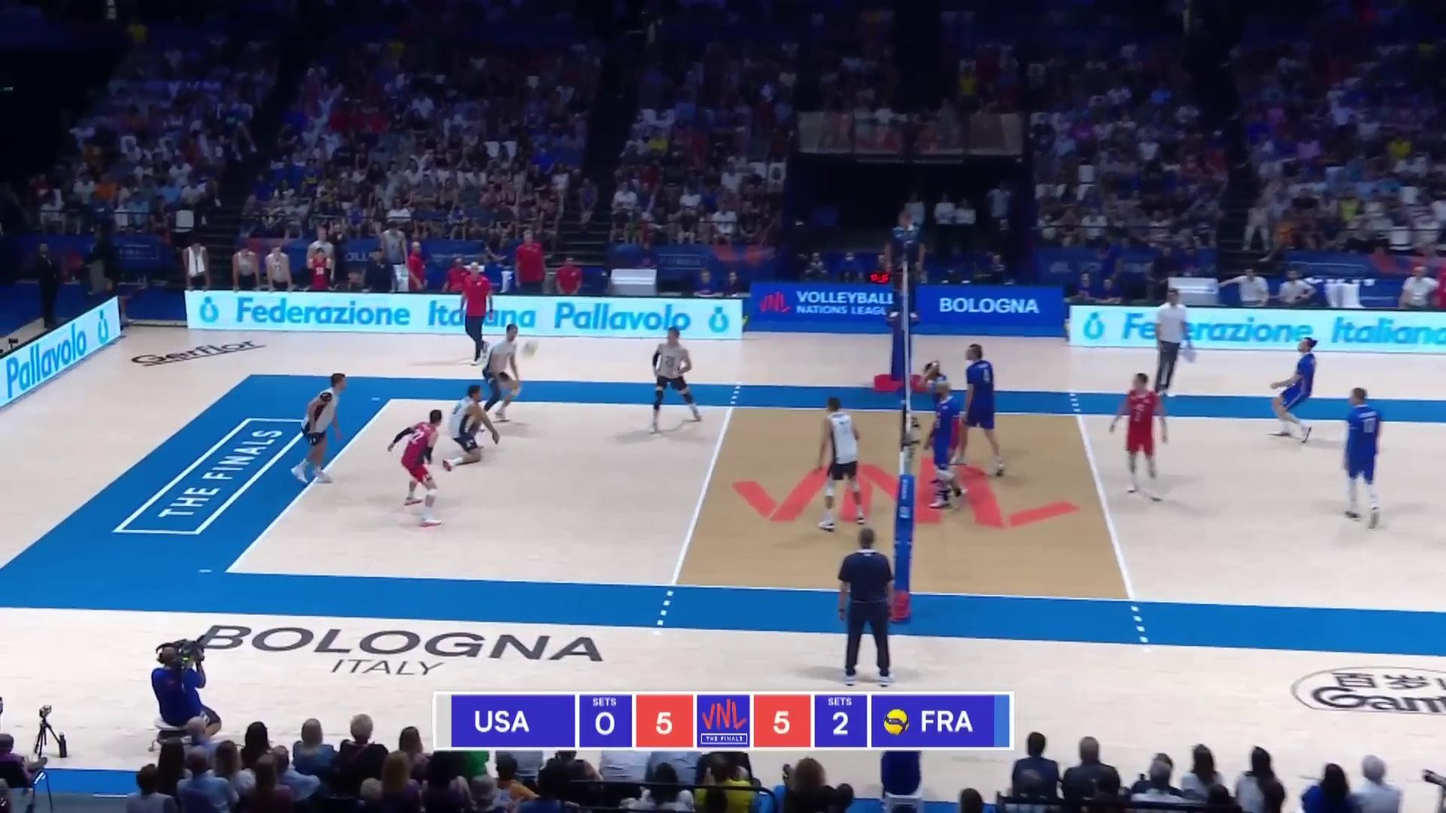player: (811, 395, 866, 529), (953, 344, 1006, 478), (1111, 374, 1166, 502), (391, 411, 448, 526), (1336, 388, 1383, 527), (292, 373, 346, 485), (648, 327, 703, 433), (925, 379, 965, 507), (1268, 338, 1316, 443), (478, 326, 523, 437), (922, 358, 959, 483), (447, 385, 497, 471)
refree: (836, 529, 895, 685), (884, 203, 922, 315)
